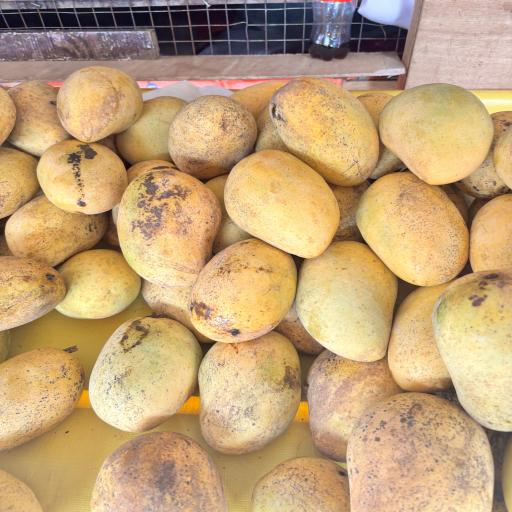fruit: (345, 382, 484, 512), (77, 302, 197, 431), (367, 80, 501, 194), (269, 72, 392, 194), (230, 139, 346, 267), (355, 181, 478, 290), (300, 238, 404, 366), (85, 430, 233, 512), (438, 271, 512, 424), (120, 175, 212, 294), (380, 277, 465, 402), (2, 342, 85, 459), (48, 233, 143, 332), (164, 90, 259, 183), (50, 58, 145, 146), (238, 440, 348, 512), (10, 188, 102, 273), (38, 128, 122, 220), (0, 246, 72, 338), (7, 70, 79, 157), (123, 86, 204, 163), (452, 182, 512, 270), (222, 70, 288, 133), (0, 453, 63, 512), (0, 134, 43, 217), (0, 71, 29, 149)
